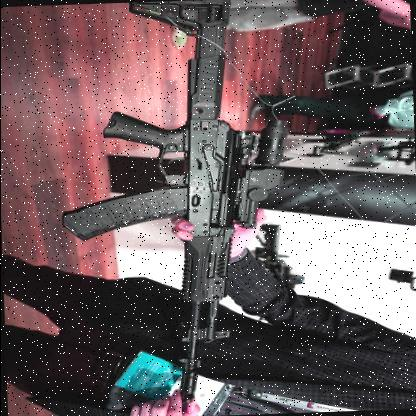rifle: (63, 0, 320, 384)
